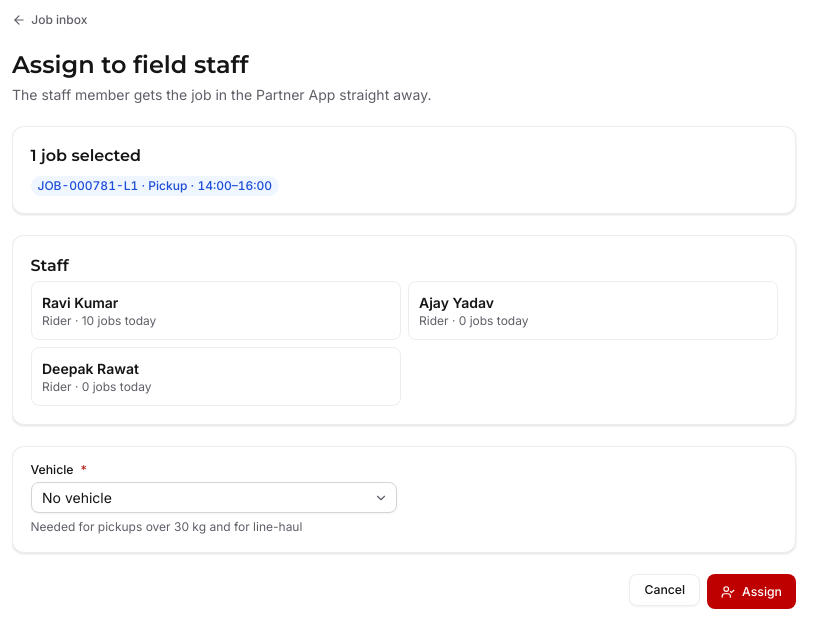
Test: SwiftCity takes the hero pickup (PP-12 → PP-14 → PP-13) › the assign screen needs a vehicle for the 120 kg pickup
Click the radio button labelled "Ajay Yadav Rider · 0 jobs today".
click(456, 302)  # box [408, 281, 778, 340]
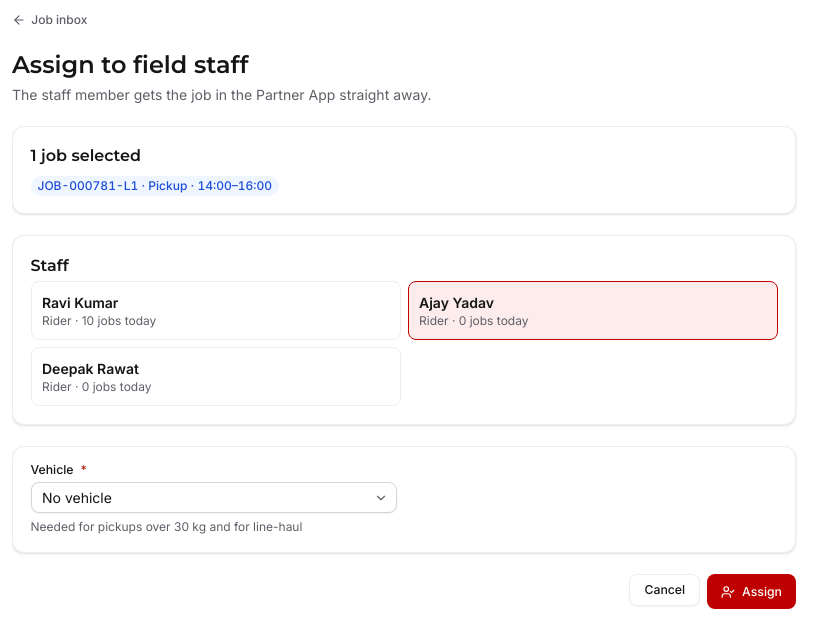
Select "No vehicle" in the dropdown labelled "Vehicle" at (214, 498), box [30, 482, 397, 513]
Click the button "Assign".
click(752, 592)  # box [707, 574, 796, 609]
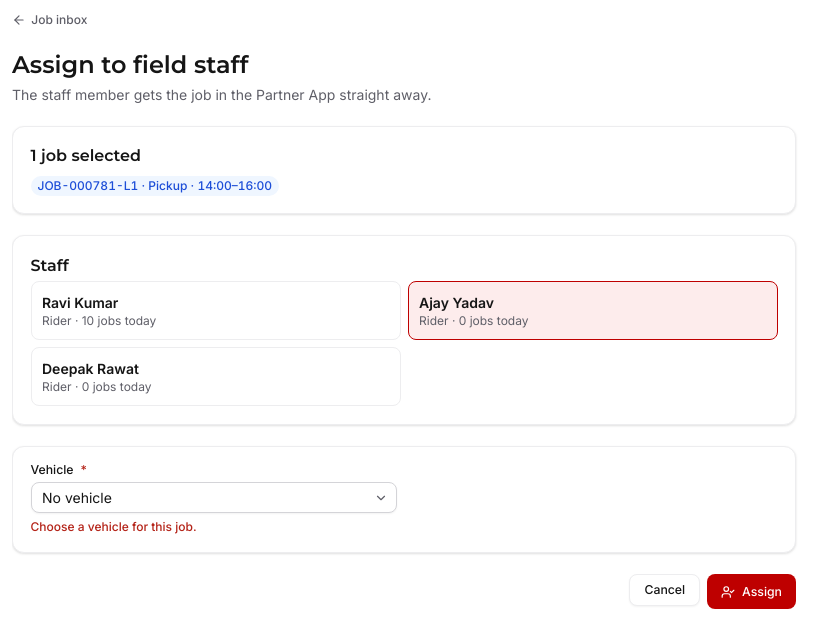
Check: the text "Choose a vehicle for this job." is shown, box [30, 518, 196, 534]
